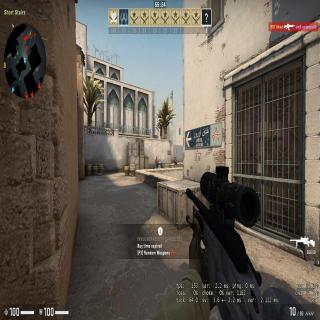T-Body: (173, 156, 177, 167), (156, 156, 158, 168)
T-Head: (174, 156, 176, 160), (156, 156, 157, 159)
